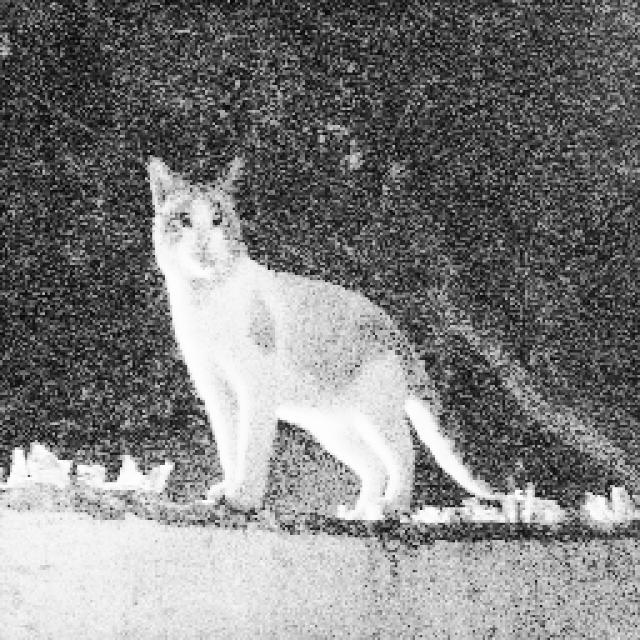cat: (139, 154, 519, 526)
